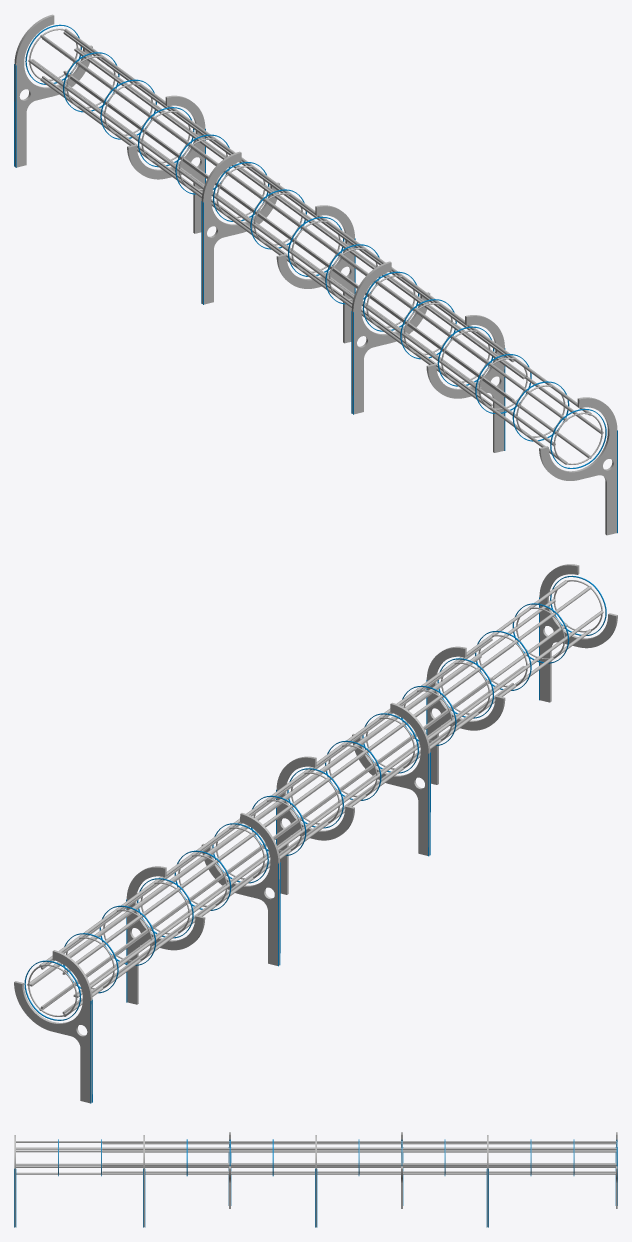
Rendered from tube-bridge.glb.
3 views of the same model, one above another, from view 1: azimuth 30°, elevation 25°; view 2: azimuth 150°, elevation 25°; view 3: azimuth 270°, elevation 25° (orthographic). The views are drawn at different scales.
Visible parts, largest first — view 1: Tube_Bridge_b2_5_0_942, Tube_Bridge_conc1_0_943, Tube_Bridge_light_a1_0_944; view 2: Tube_Bridge_b2_5_0_942, Tube_Bridge_conc1_0_943, Tube_Bridge_light_a1_0_944; view 3: Tube_Bridge_b2_5_0_942, Tube_Bridge_light_a1_0_944, Tube_Bridge_conc1_0_943.
Part boxes in pixels (x1,y1,x2,y2): Tube_Bridge_b2_5_0_942: (28,28,603,464); Tube_Bridge_conc1_0_943: (14,14,617,535); Tube_Bridge_light_a1_0_944: (14,24,617,533); Tube_Bridge_b2_5_0_942: (27,580,603,1016); Tube_Bridge_conc1_0_943: (14,564,617,1103); Tube_Bridge_light_a1_0_944: (24,575,606,1103); Tube_Bridge_b2_5_0_942: (16,1141,617,1174); Tube_Bridge_light_a1_0_944: (14,1139,617,1227); Tube_Bridge_conc1_0_943: (14,1132,617,1227).
Size of the model in its own units: 0.6819 by 1.2 by 8.
